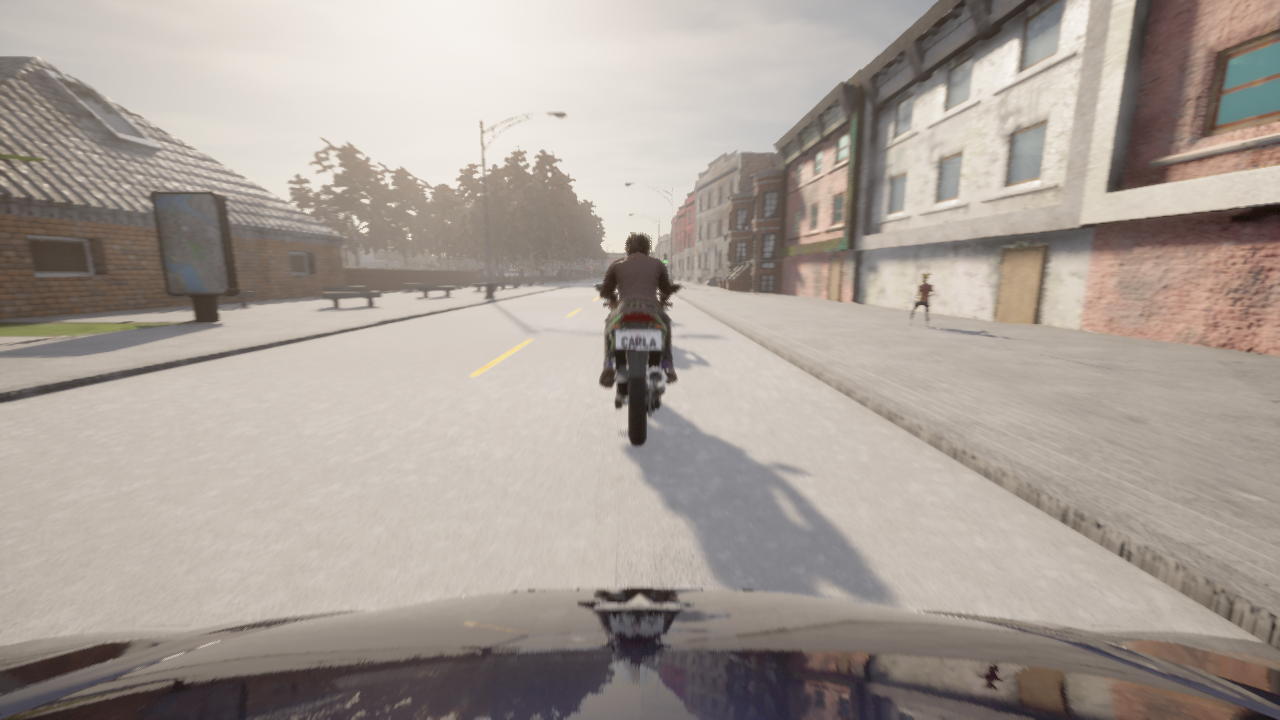cyclist: (0, 588, 1279, 719), (595, 285, 680, 445), (537, 276, 556, 283)
pedestrian: (906, 273, 934, 328)
